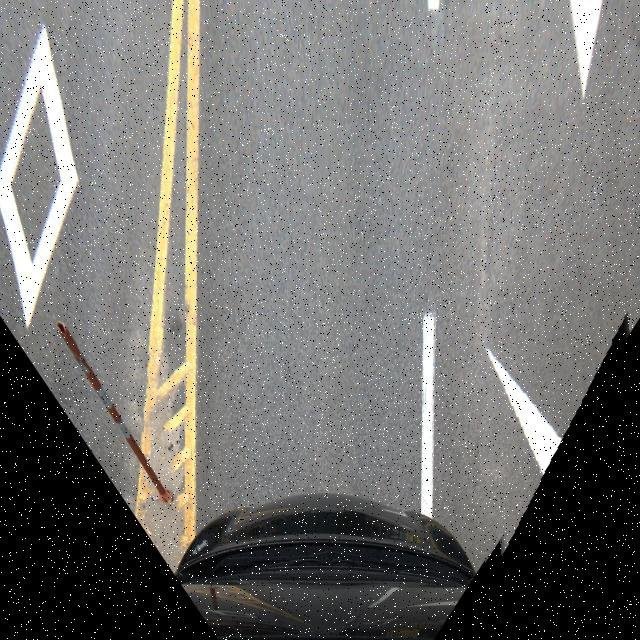diamond: (483, 278, 640, 640)
